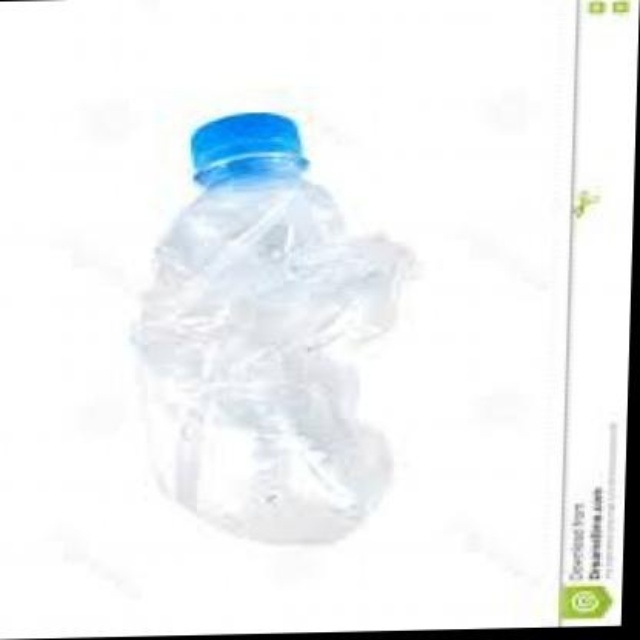trash: (142, 112, 409, 542)
